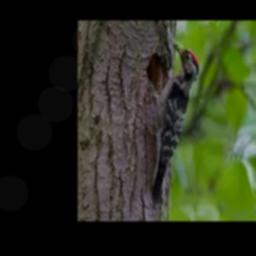Woodpecker: (147, 42, 199, 207)
